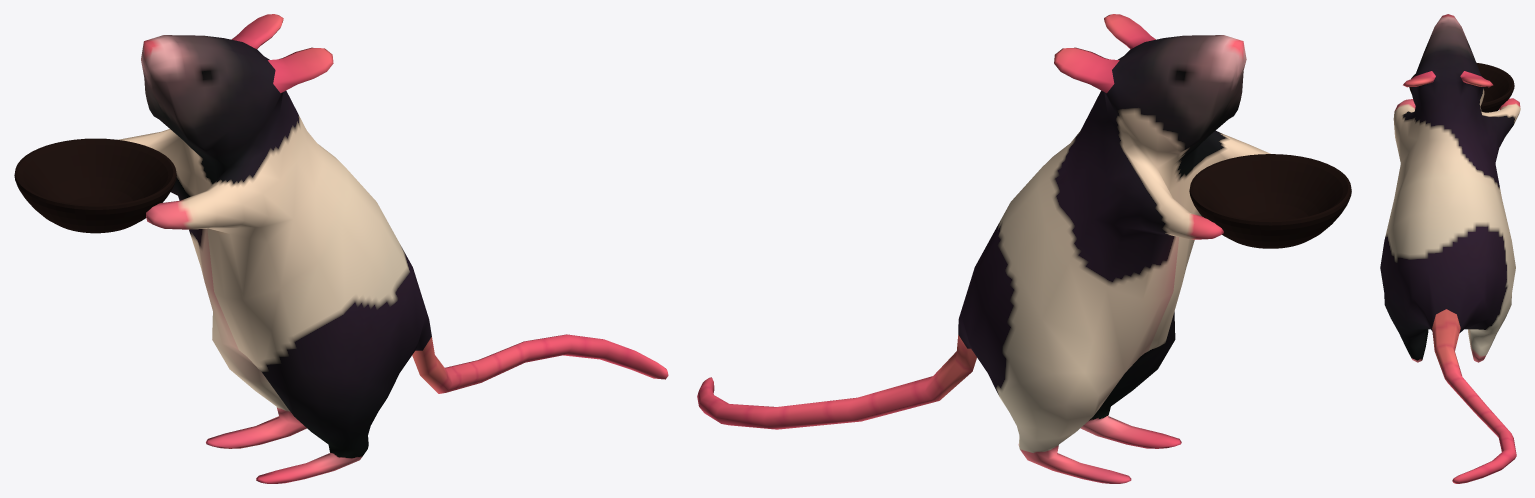
File: mouse.obj
The picture shows the model from 3 angles, left to right: view 1: azimuth 30°, elevation 25°; view 2: azimuth 150°, elevation 25°; view 3: azimuth 270°, elevation 25°; orthographic projection. The views are drawn at different scales.
Visible parts, largest first — view 1: mouse_Material.002, ciotola_ciotola; view 2: mouse_Material.002, ciotola_ciotola; view 3: mouse_Material.002, ciotola_ciotola.
Part boxes in pixels (x1,y1,x2,y2): mouse_Material.002: (118,14,668,483); ciotola_ciotola: (14,138,176,233); mouse_Material.002: (697,14,1270,483); ciotola_ciotola: (1189,154,1351,248); mouse_Material.002: (1380,14,1520,483); ciotola_ciotola: (1409,62,1514,112).
Size of the model in its own units: 1.31 by 0.925 by 0.3852.
